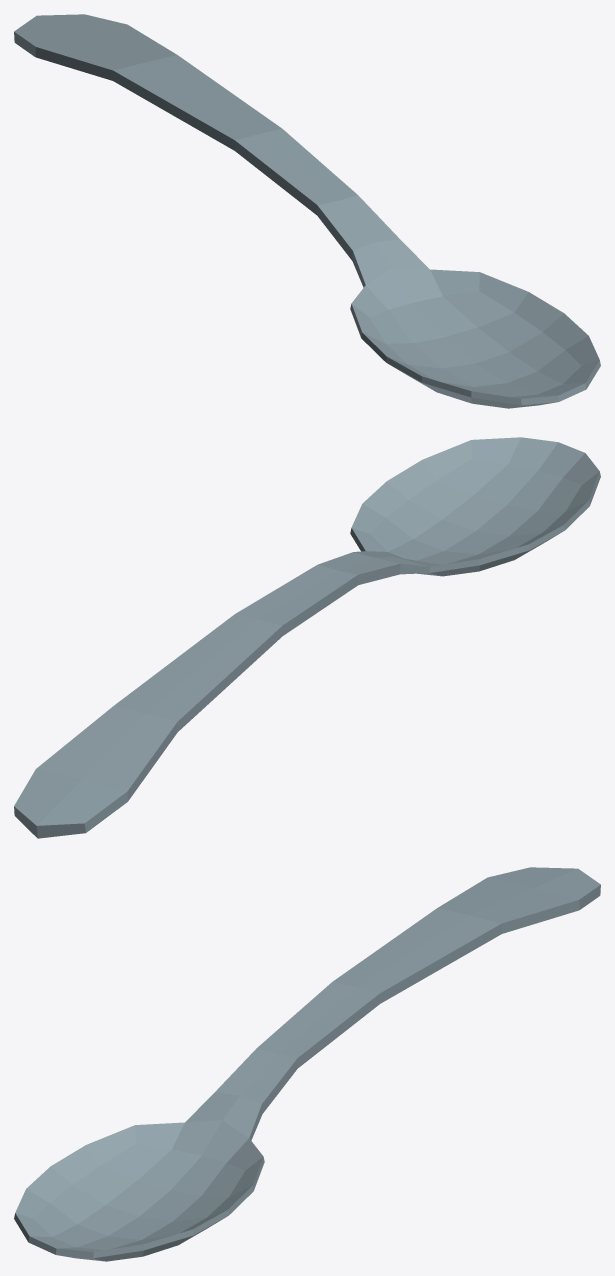
The model's file is Spoon_01.gltf.
The picture shows the model from 3 angles, top to bottom: view 1: azimuth 30°, elevation 25°; view 2: azimuth 150°, elevation 25°; view 3: azimuth 330°, elevation 25°; orthographic projection.
Parts seen in each view (by area): view 1: node-0; view 2: node-0; view 3: node-0.
Boxes of the visible parts, x1,y1,x2,y2 form: node-0: [14, 14, 600, 408]; node-0: [14, 437, 600, 838]; node-0: [14, 867, 600, 1261].
Size of the model in its own units: 2.03 by 0.8825 by 10.27.
